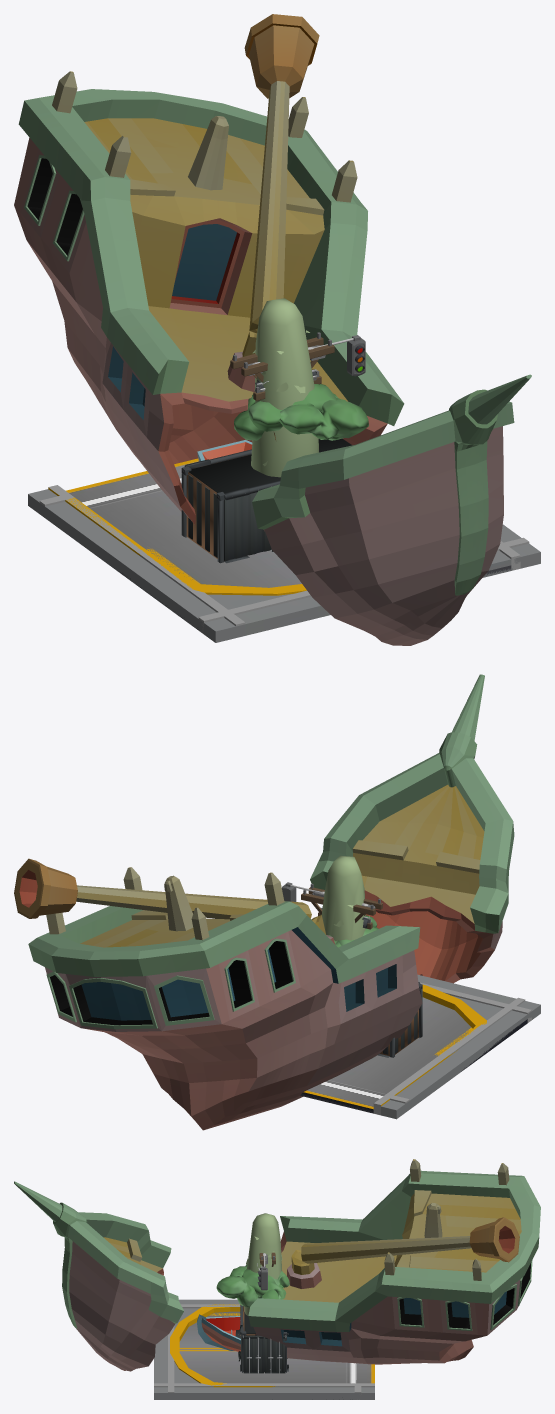
The model's file is outpost-kit.glb.
3 renders of one model, top to bottom at view 1: azimuth 30°, elevation 25°; view 2: azimuth 150°, elevation 25°; view 3: azimuth 270°, elevation 25°, orthographic. The views are drawn at different scales.
Parts seen in each view (by area): view 1: crashed_ship, Road6_End, shipping-container, Road2_T, Tree4, Road1, crown_1_a; view 2: crashed_ship, Road2_T, Road1, Road6_End, Tree4, shipping-container; view 3: crashed_ship, Road1, Road6_End, Road2_T, crown_1_a, Tree4, small_boat, shipping-container, end-n/panel, end-s/panel.
Part boxes in pixels (box(x1,y1,x2,y2)): crashed_ship: box(14, 14, 531, 645); Road6_End: box(28, 487, 511, 642); shipping-container: box(181, 438, 352, 563); Road2_T: box(28, 458, 540, 642); Tree4: box(251, 298, 318, 477); Road1: box(45, 498, 540, 642); crown_1_a: box(234, 384, 368, 440); crashed_ship: box(14, 674, 514, 1130); Road2_T: box(301, 982, 540, 1119); Road1: box(300, 997, 540, 1117); Road6_End: box(381, 974, 540, 1118); Tree4: box(321, 855, 365, 942); shipping-container: box(377, 982, 422, 1057); crashed_ship: box(14, 1159, 540, 1371); Road1: box(154, 1299, 374, 1399); Road6_End: box(154, 1299, 354, 1399); Road2_T: box(168, 1326, 374, 1399); crown_1_a: box(216, 1265, 289, 1307); Tree4: box(244, 1213, 282, 1315); small_boat: box(197, 1314, 240, 1351); shipping-container: box(240, 1304, 288, 1372); end-n/panel: box(243, 1335, 263, 1373); end-s/panel: box(265, 1335, 285, 1373).
Size of the model in its own units: 14.48 by 12.39 by 28.62.
4 materials, 3 textured.
